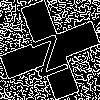Z: (25, 25, 70, 79)
